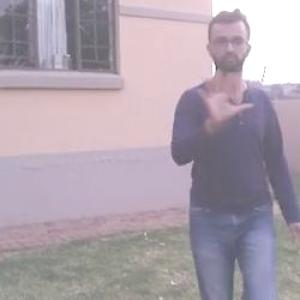follow_hand: (194, 70, 256, 126)
